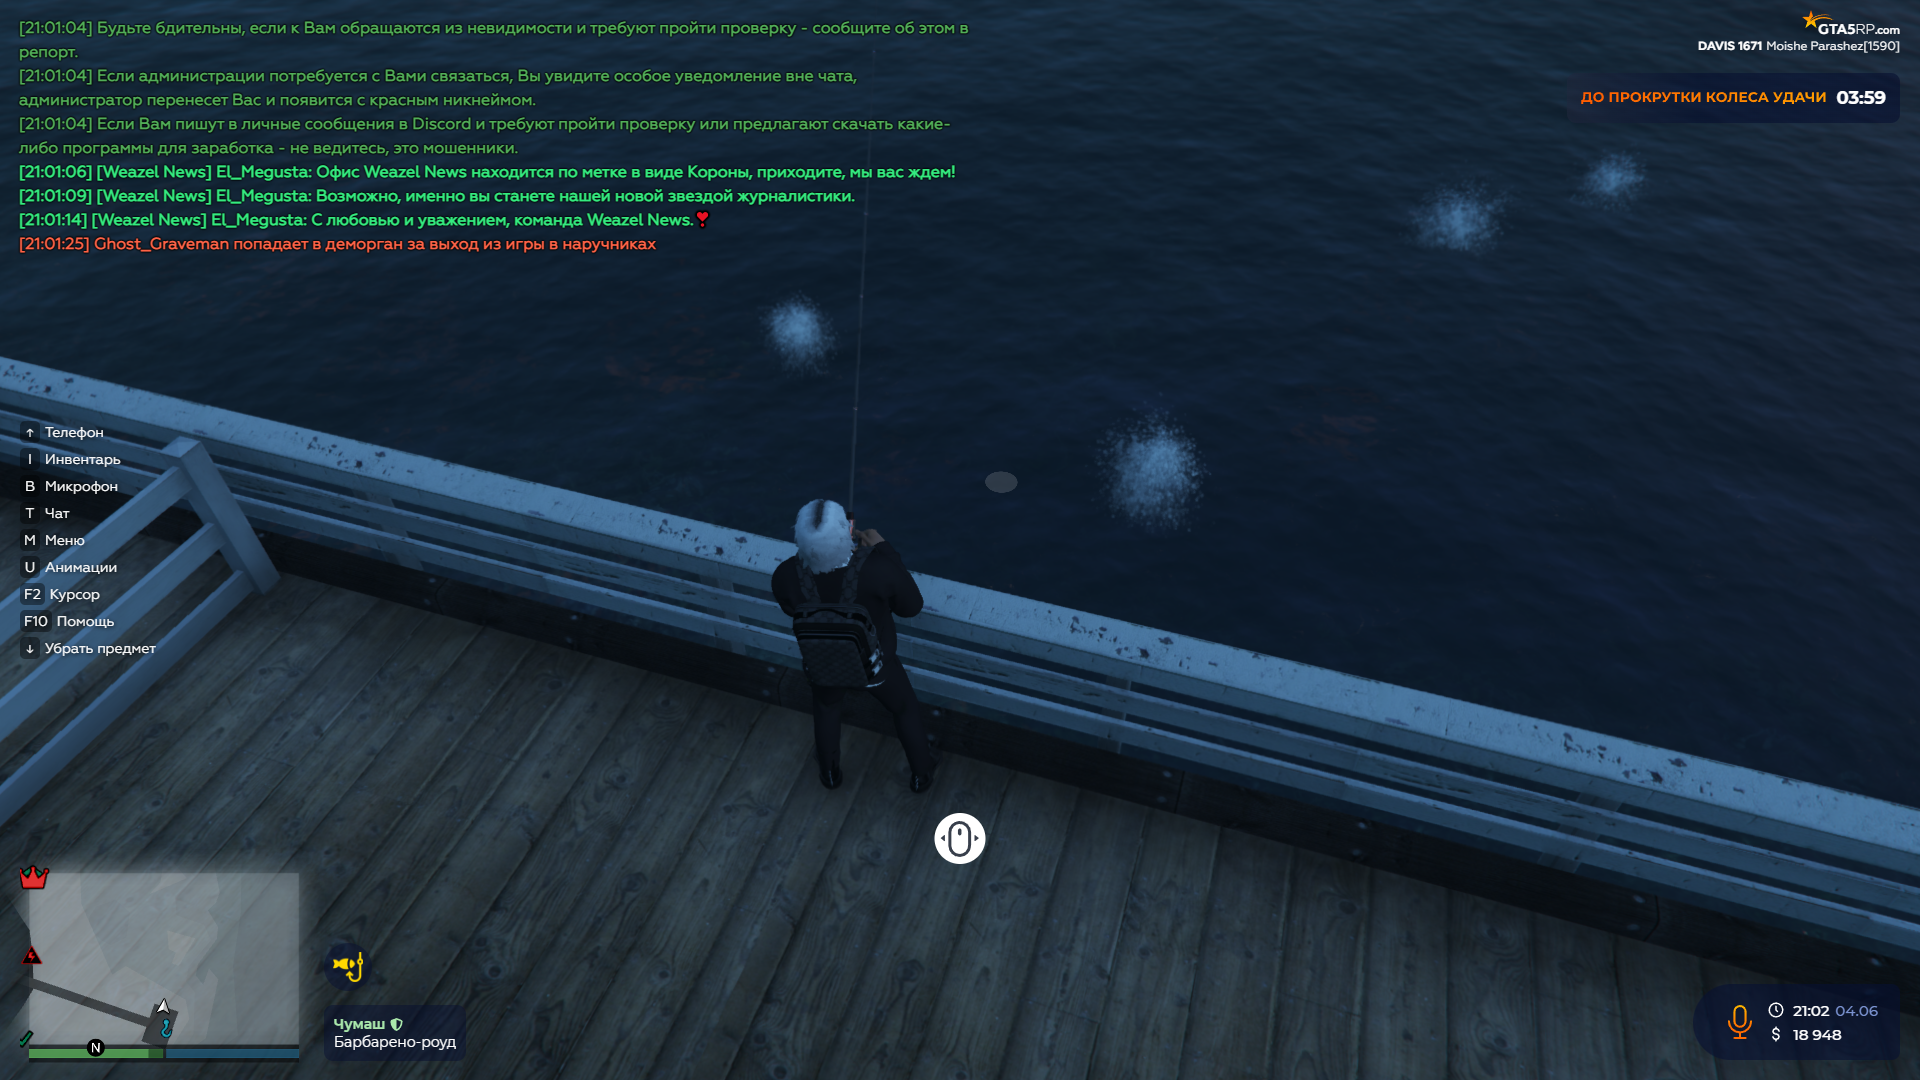circle: (982, 468, 1021, 495)
